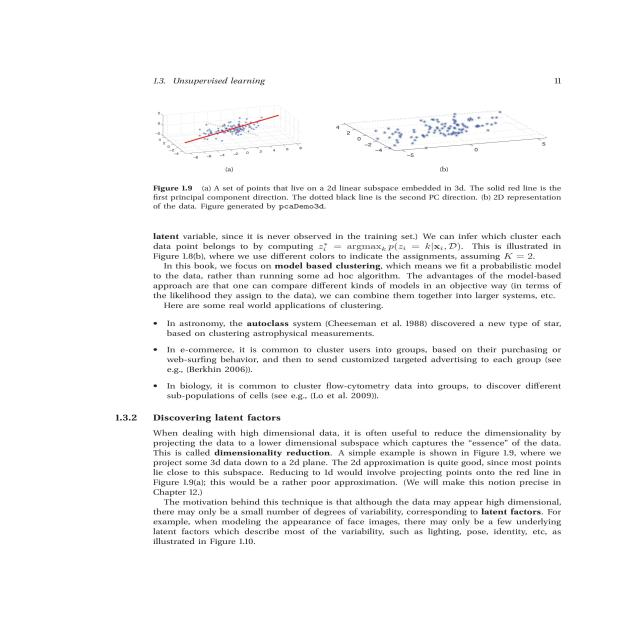diagram: (129, 82, 640, 226)
